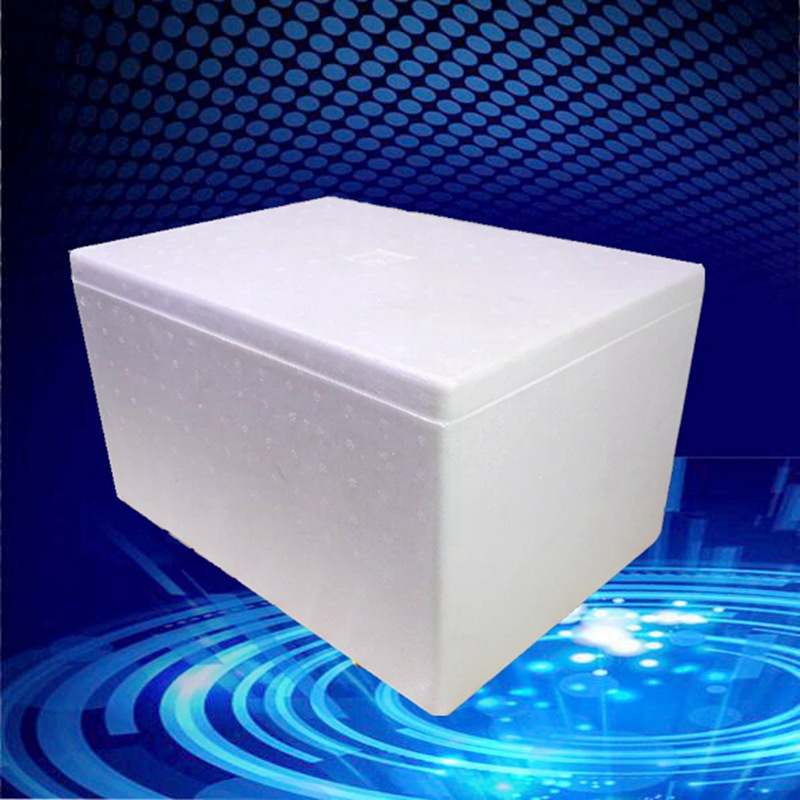泡沫箱: (70, 198, 705, 714)
